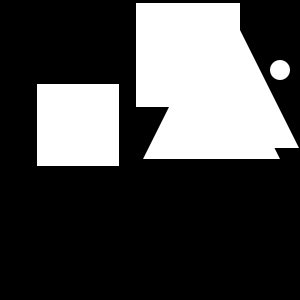circle: (136, 3, 240, 107), (37, 84, 119, 166)
rectangle: (270, 60, 290, 80)
triangle: (156, 5, 299, 148), (143, 22, 280, 159)
